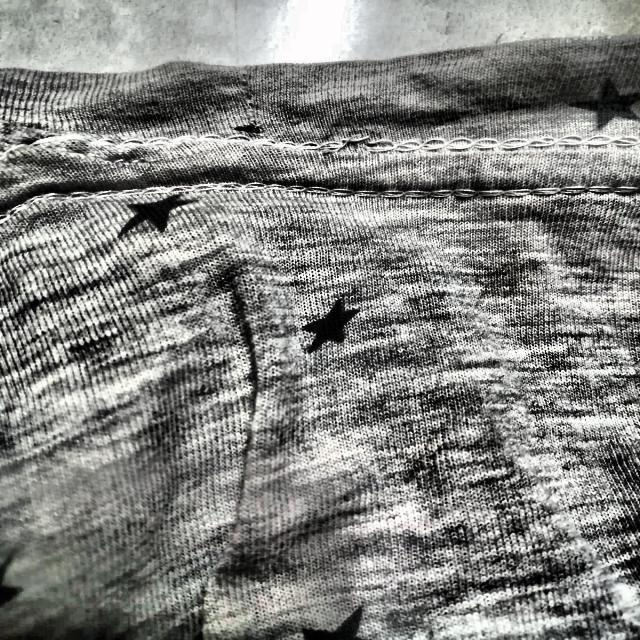gray stitch: (313, 120, 406, 169)
